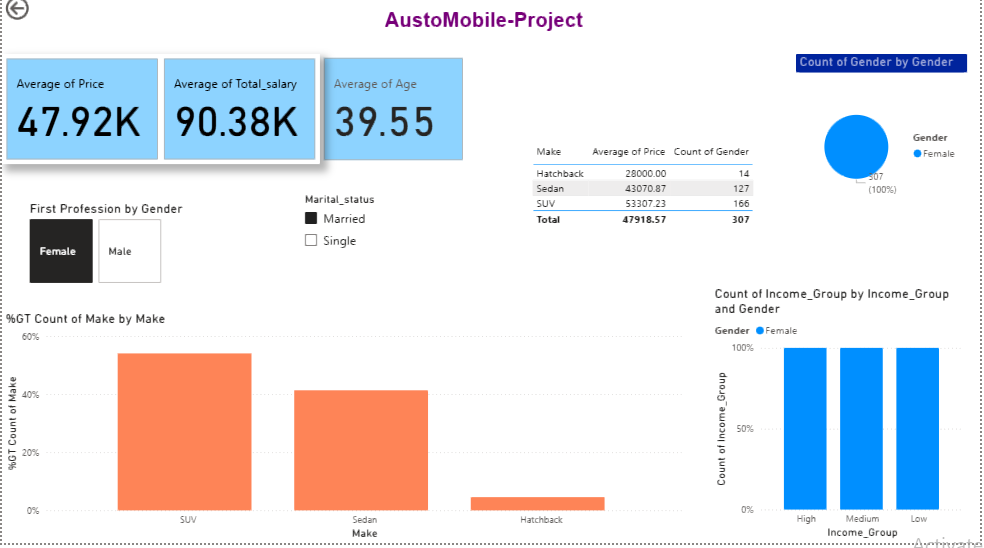

This screenshot's page, from the dashboard's own definition file:
{"tool":"powerbi","page":{"name":"Page 1","canvas":[1280,720],"ordinal":0},"visuals":[{"type":"pieChart","fields":{"Category":["cleaned_data_Austomobile.Gender"],"Y":["CountNonNull(cleaned_data_Austomobile.Gender)"]},"box":[1040,80,224,224],"z":0},{"type":"columnChart","fields":{"Category":["cleaned_data_Austomobile.Make"],"Y":["CountNonNull(cleaned_data_Austomobile.Make)"]},"box":[0,416,896,304],"z":1000},{"type":"cardVisual","fields":{"Data":["Avg(cleaned_data_Austomobile.Age)"]},"box":[416,80,192,144],"z":2000},{"type":"slicer","fields":{"Values":["cleaned_data_Austomobile.Marital_status"]},"box":[384,256,176,112],"z":3000},{"type":"cardVisual","fields":{"Data":["Avg(cleaned_data_Austomobile.Price)","Avg(cleaned_data_Austomobile.Total_salary)"]},"box":[0,80,416,144],"z":4000},{"type":"advancedSlicerVisual","fields":{"Values":["cleaned_data_Austomobile.Gender"]},"box":[32,272,272,112],"z":5000},{"type":"tableEx","fields":{"Values":["cleaned_data_Austomobile.Make","Avg(cleaned_data_Austomobile.Price)","cleaned_data_Austomobile.Gender"]},"box":[688,192,336,176],"z":7000},{"type":"actionButton","box":[0,0,100,40],"z":8000},{"type":"hundredPercentStackedColumnChart","fields":{"Category":["cleaned_data_Austomobile.Income_Group"],"Series":["cleaned_data_Austomobile.Gender"],"Y":["CountNonNull(cleaned_data_Austomobile.Income_Group)"]},"box":[928,384,336,336],"z":9000}]}

Visuals, with their boxes on the page's 1280x720 design canvas (x1, y1, x2, y2). These are canvas units, not pixel positions in the 984x548 screenshot, which may show the page scaled, cropped or inside an application window:
pieChart - cleaned_data_Austomobile.Gender x CountNonNull(cleaned_data_Austomobile.Gender): [x1=1040, y1=80, x2=1264, y2=304]
columnChart - cleaned_data_Austomobile.Make x CountNonNull(cleaned_data_Austomobile.Make): [x1=0, y1=416, x2=896, y2=720]
cardVisual - Avg(cleaned_data_Austomobile.Age): [x1=416, y1=80, x2=608, y2=224]
slicer - cleaned_data_Austomobile.Marital_status: [x1=384, y1=256, x2=560, y2=368]
cardVisual - Avg(cleaned_data_Austomobile.Price) x Avg(cleaned_data_Austomobile.Total_salary): [x1=0, y1=80, x2=416, y2=224]
advancedSlicerVisual - cleaned_data_Austomobile.Gender: [x1=32, y1=272, x2=304, y2=384]
tableEx - cleaned_data_Austomobile.Make x Avg(cleaned_data_Austomobile.Price): [x1=688, y1=192, x2=1024, y2=368]
actionButton: [x1=0, y1=0, x2=100, y2=40]
hundredPercentStackedColumnChart - cleaned_data_Austomobile.Income_Group x cleaned_data_Austomobile.Gender: [x1=928, y1=384, x2=1264, y2=720]
